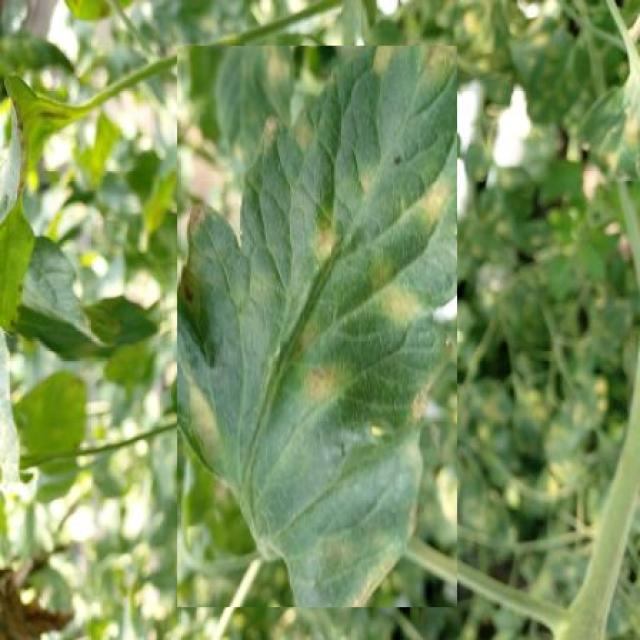Leaf Mold: (177, 46, 457, 607)
